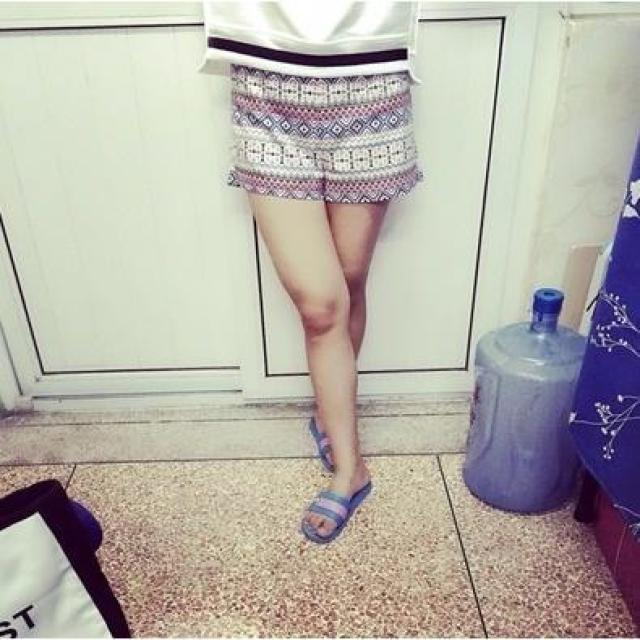shorts: (228, 29, 423, 199)
